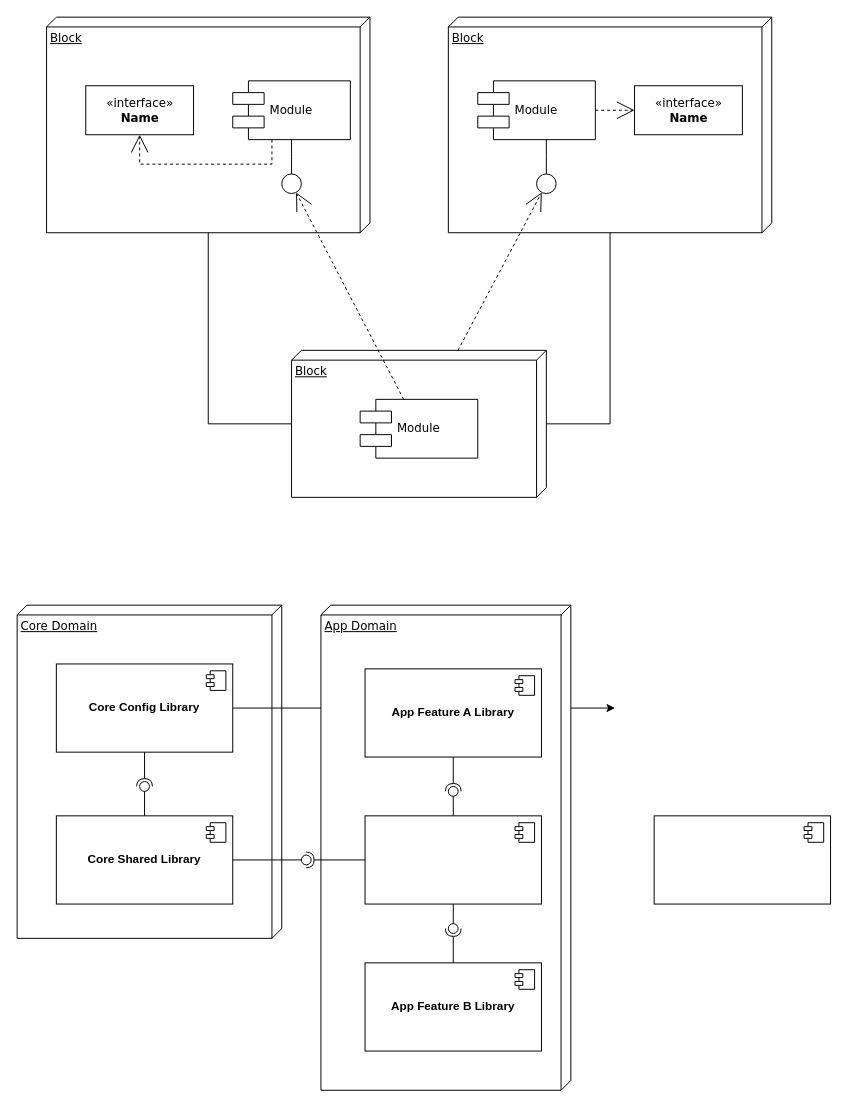
Image size: 848x1107. Some labels were removed from this diagram. The shapes that lost their labels are listed below. From the top down, each one's centre as x and y in pixels, then its label:
the point at 452,859: App Shared Library
the point at 742,859: App
